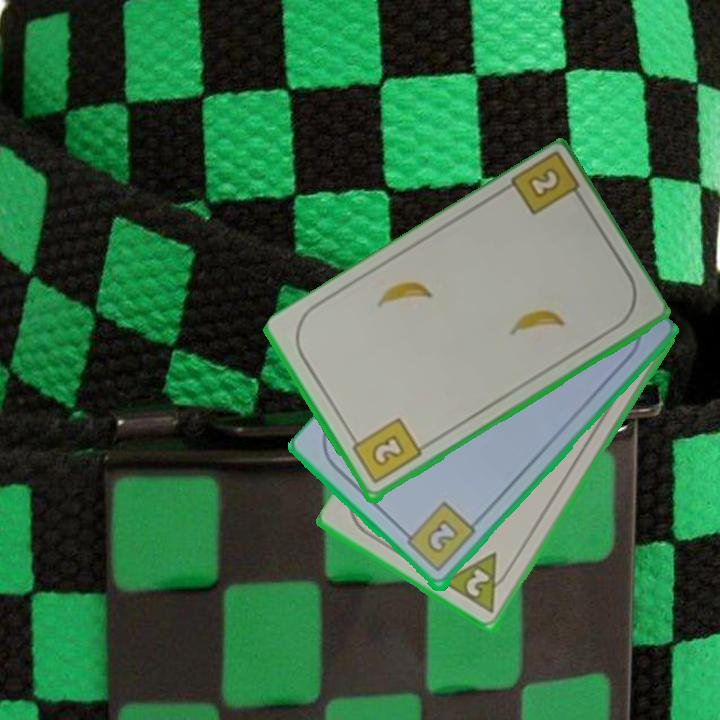2b: (398, 499, 479, 575), (505, 151, 589, 219), (346, 415, 425, 487)
2p: (441, 549, 517, 617)
